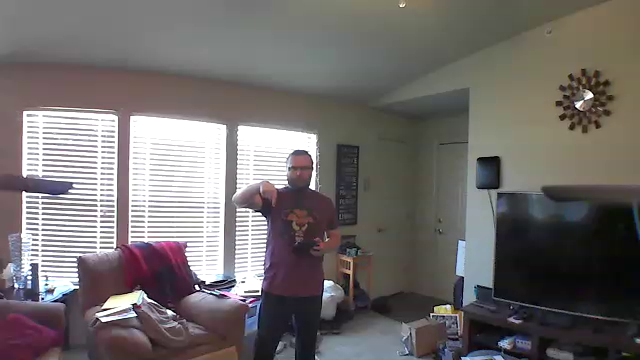down: (255, 177, 281, 213)
